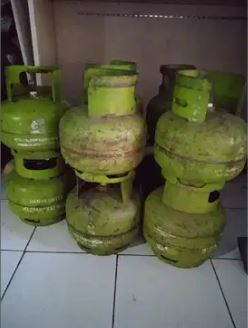gas_ijo: (157, 70, 248, 189), (60, 64, 145, 183), (144, 183, 229, 268), (1, 63, 74, 159), (67, 175, 143, 256), (6, 155, 73, 226)
